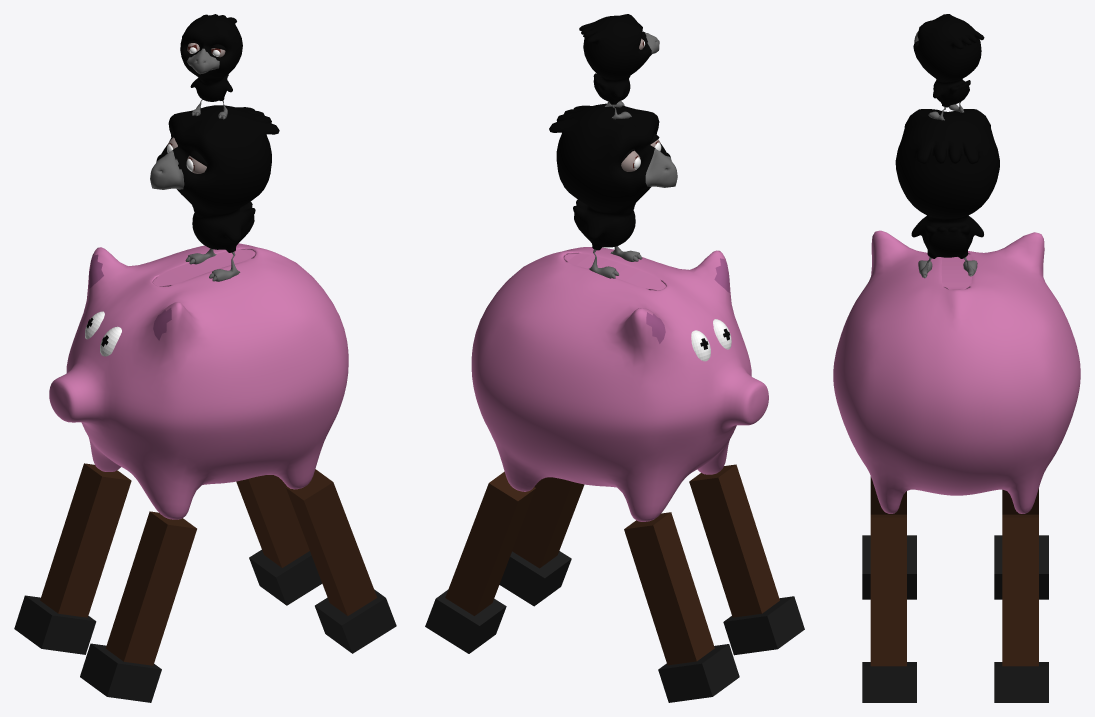
Rendered from pig-4-stilts-bird-7.obj.
3 views of the same model, side by side, from view 1: azimuth 30°, elevation 25°; view 2: azimuth 150°, elevation 25°; view 3: azimuth 270°, elevation 25° (orthographic).
Size of the model in its own units: 3.71 by 7.63 by 2.72.
